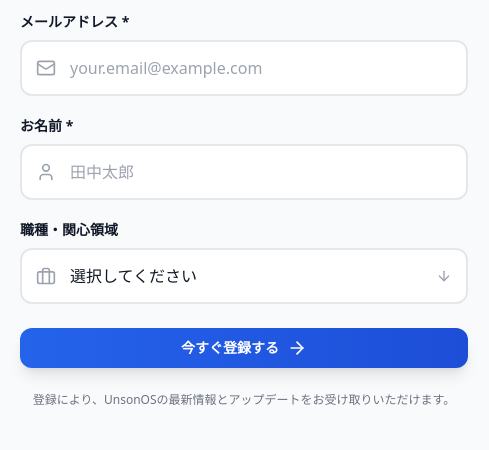
Test: WaitlistForm Component › should show validation error for invalid email format
Note: 名前は有効な値を入力（他のバリデーションエラーを避けるため）
Type "テストユーザー" into the field labelled "お名前 *" at (244, 172), box [20, 144, 468, 200]
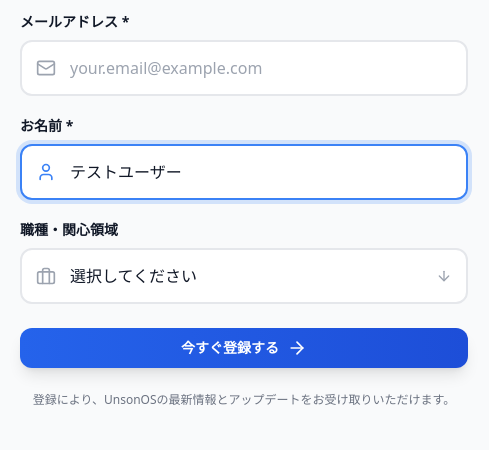
Type "invalid-email" into the field labelled "メールアドレス *" at (244, 68), box [20, 40, 468, 96]
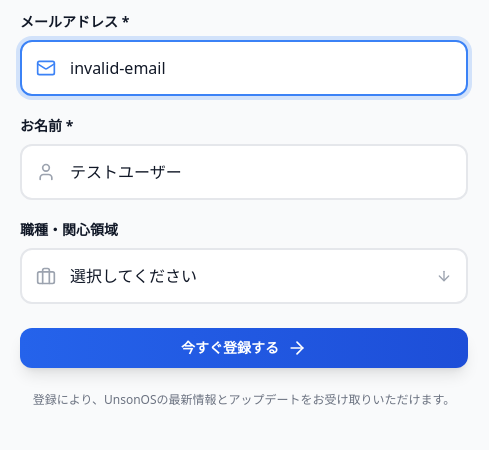
Click the button "今すぐ登録する" at (244, 348), box [20, 328, 468, 368]
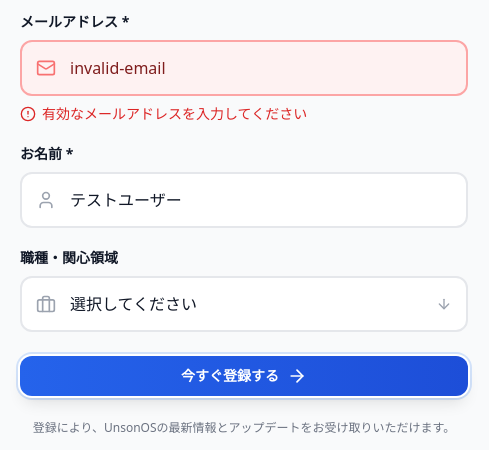
Expected: the text "有効なメールアドレスを入力してください" is shown, [20, 104, 307, 123]
